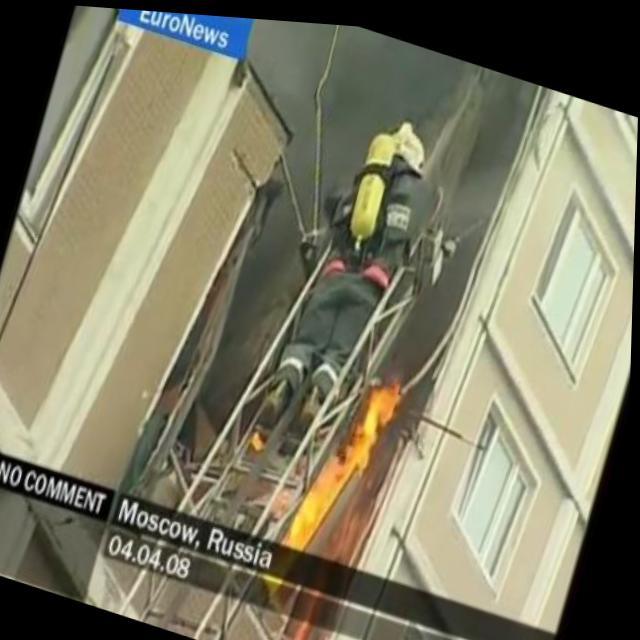fire: (290, 351, 416, 574)
